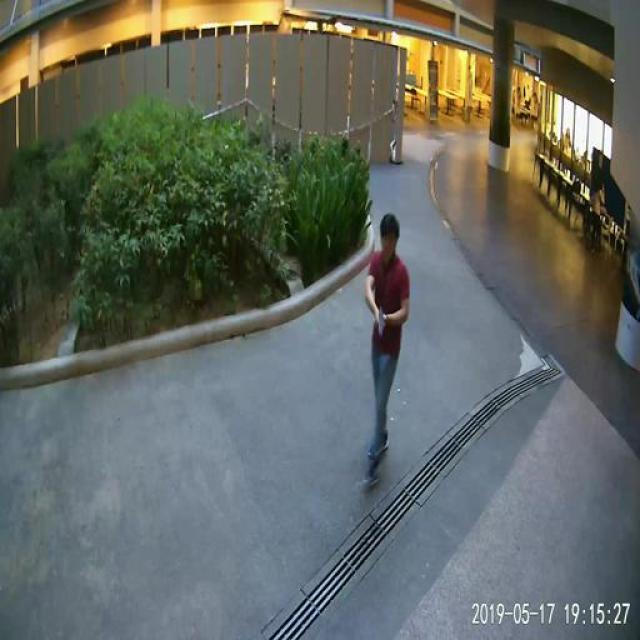Gun: (364, 301, 398, 341)
